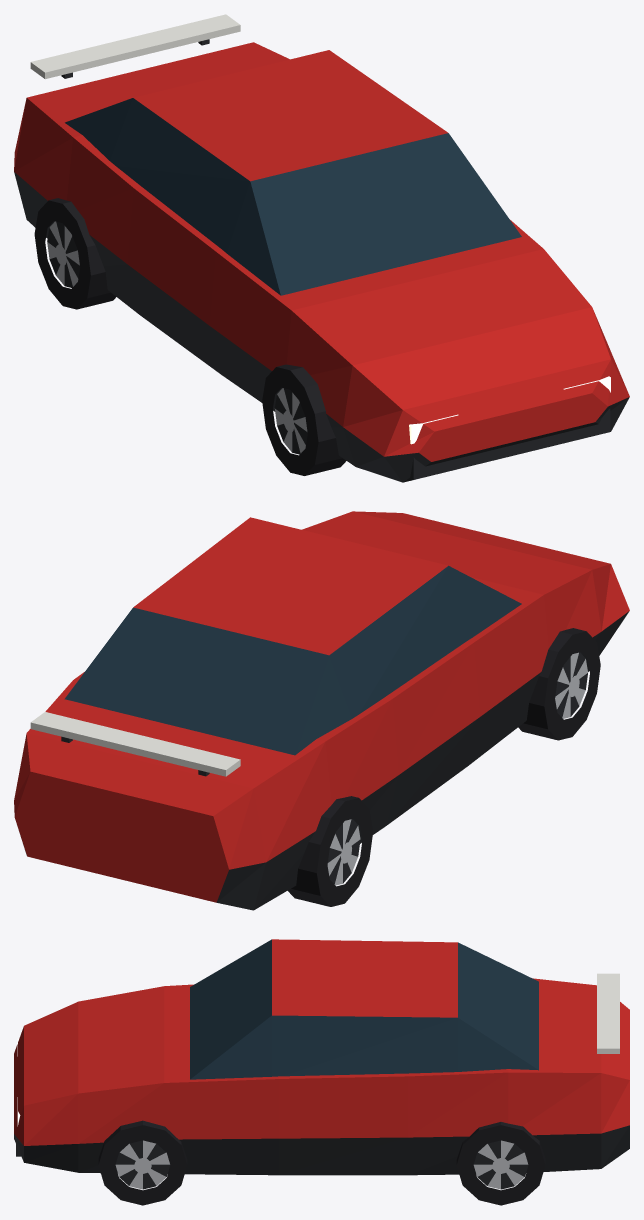
The model's file is quill-coupe.gltf.
3 renders of one model, top to bottom at view 1: azimuth 30°, elevation 25°; view 2: azimuth 150°, elevation 25°; view 3: azimuth 270°, elevation 25°, orthographic. The views are drawn at different scales.
Visible parts, largest first — view 1: body, wheel_fr, wheel_rr; view 2: body, wheel_rr, wheel_fr; view 3: body, wheel_fl, wheel_rl.
Boxes of the visible parts, x1,y1,x2,y2 form: body: [14, 14, 629, 482]; wheel_fr: [262, 364, 346, 475]; wheel_rr: [34, 198, 115, 309]; body: [14, 511, 629, 910]; wheel_rr: [288, 796, 372, 906]; wheel_fr: [518, 628, 600, 740]; body: [14, 939, 629, 1175]; wheel_fl: [98, 1120, 187, 1205]; wheel_rl: [456, 1122, 545, 1205].
Bounding box in the file's own units: 1.81 × 1.34 × 4.3.
